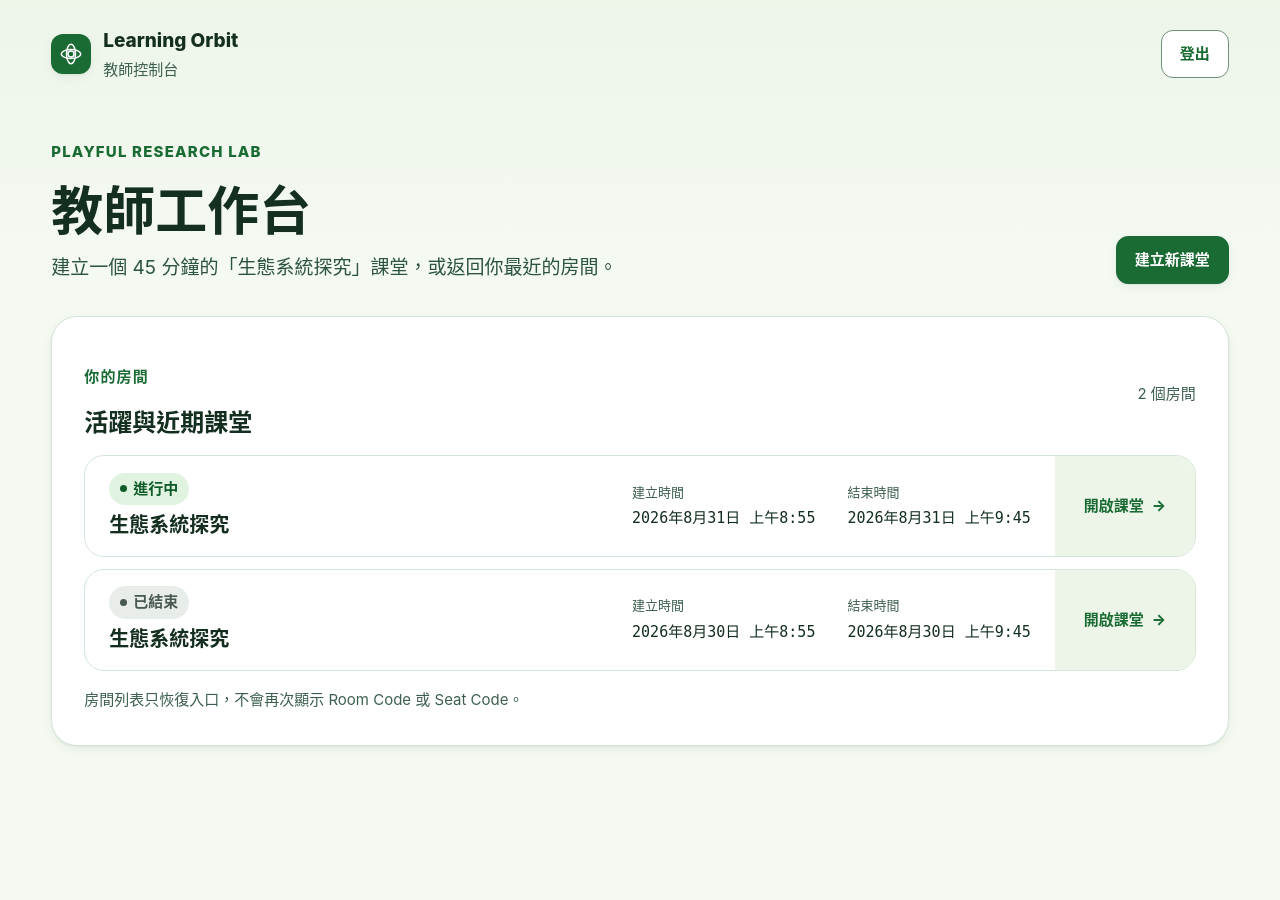
teacher workspace › immediately closes the workspace while logout is pending and never resurrects late invite codes
Expected: the heading "教師工作台" is shown, [51,180,311,243]
What coordinates should you click on to do the following:
click the button "建立新課堂"
I would click on:
 (1172, 260)
Its box is [1116,236,1229,284].
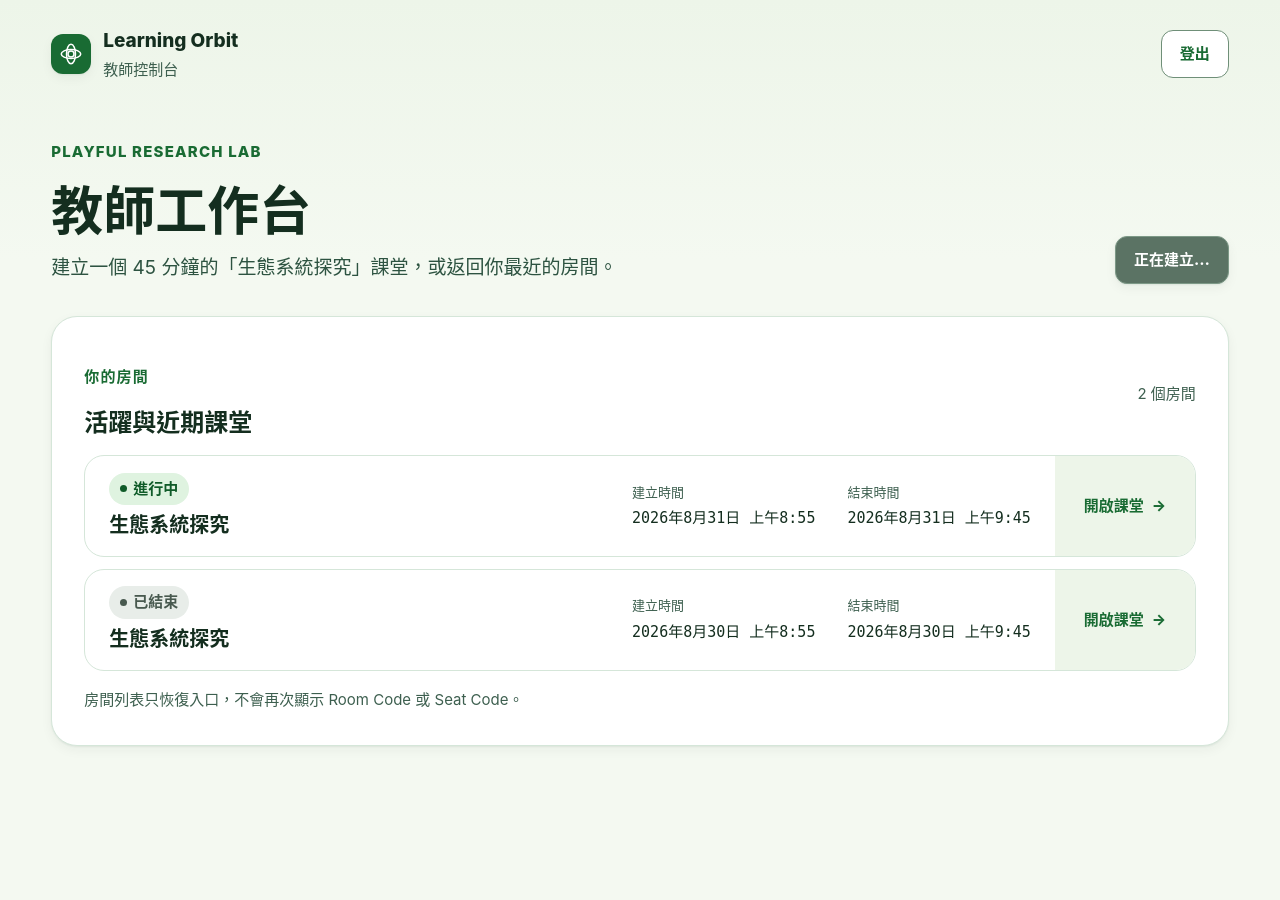
What coordinates should you click on to do the following:
click the button "登出"
I would click on:
 (1195, 54)
Its box is [1161,30,1229,78].
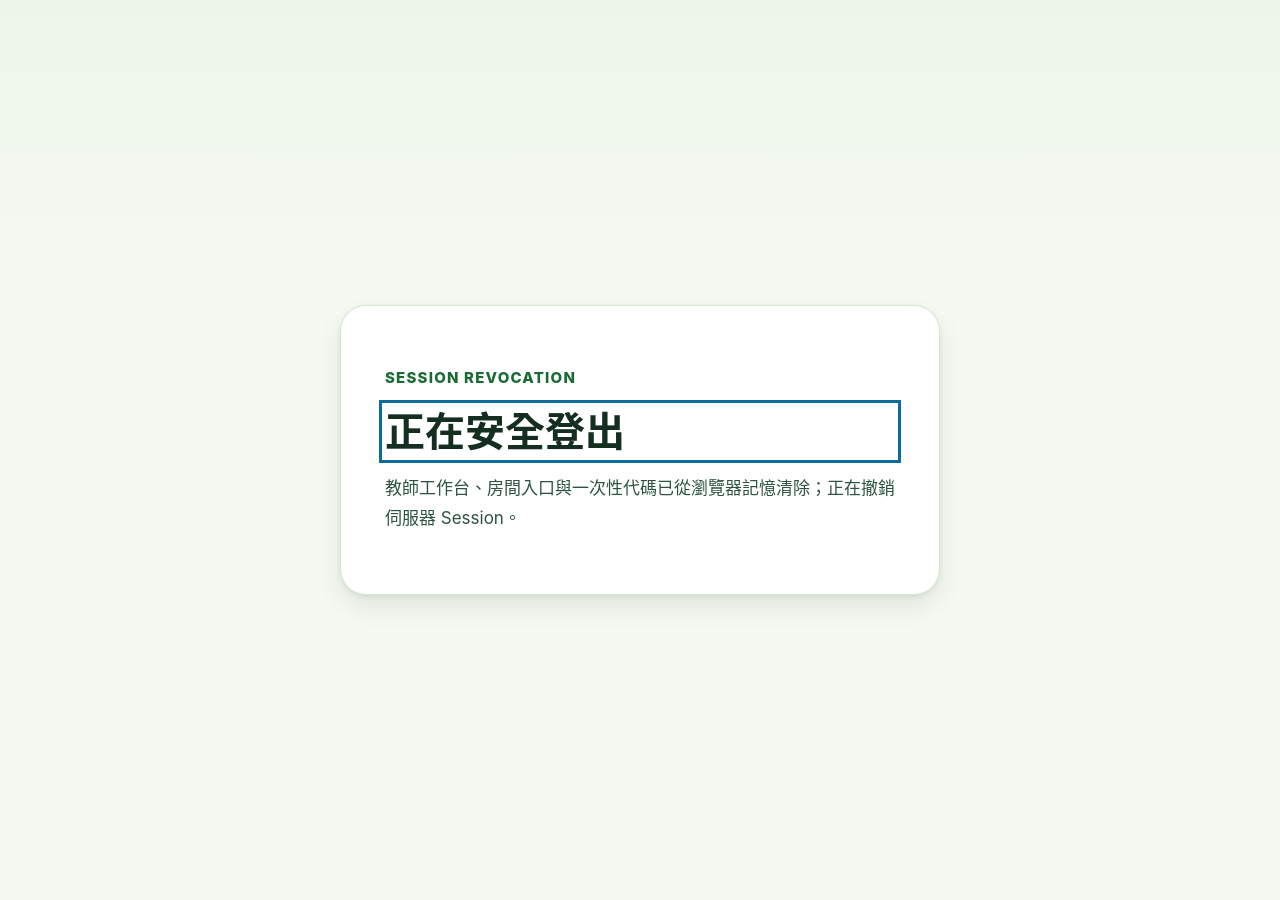
Expected: the button "正在建立…" is gone
Expected: the link "開啟課堂" is gone
Expected: the text "生態系統探究" is gone
